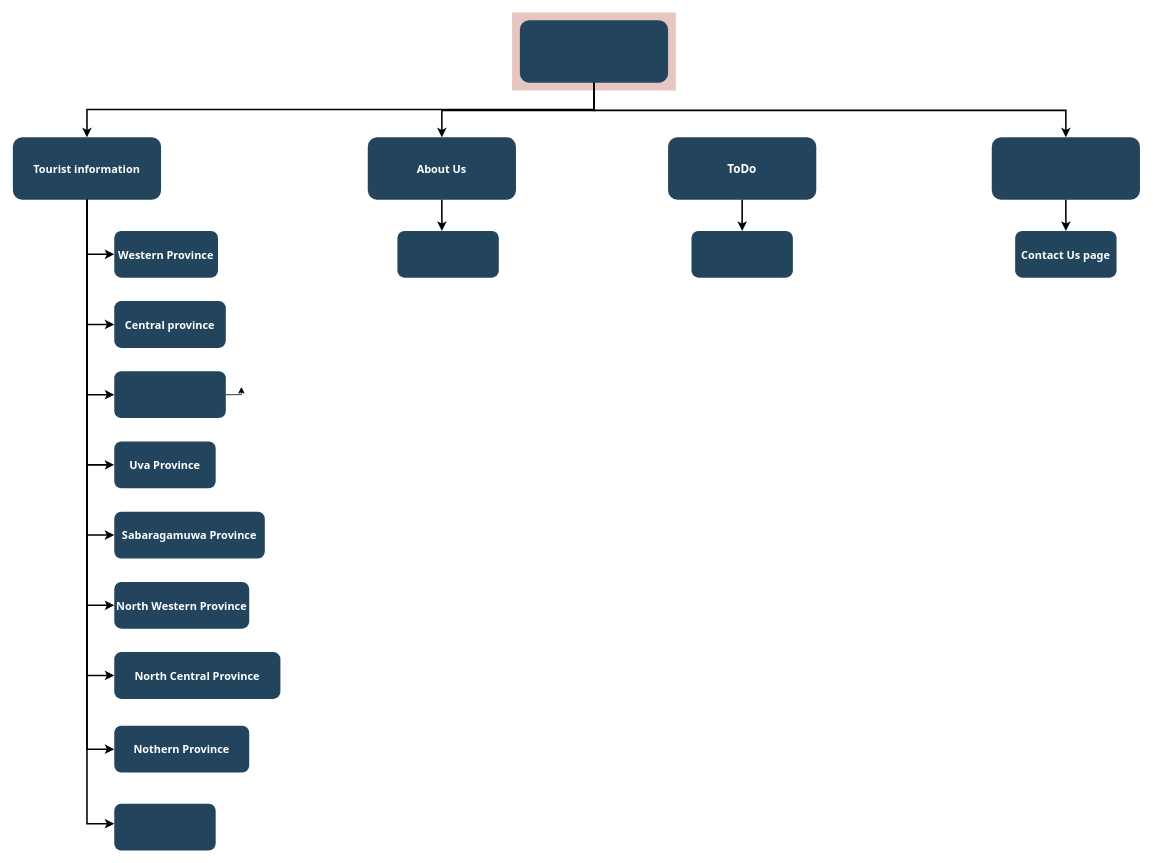
Image size: 1153x863. Some labels were removed from this diagram. Each missing label, with the centre of its shape:
"About Us page" belongs at point (447, 253).
"Contact Us" belongs at point (1065, 168).
"Eastern Province" belongs at point (164, 826).
"Home page" belongs at point (593, 51).
"Southerns Province" belongs at point (169, 394).
"ToDo page" belongs at point (741, 253).
